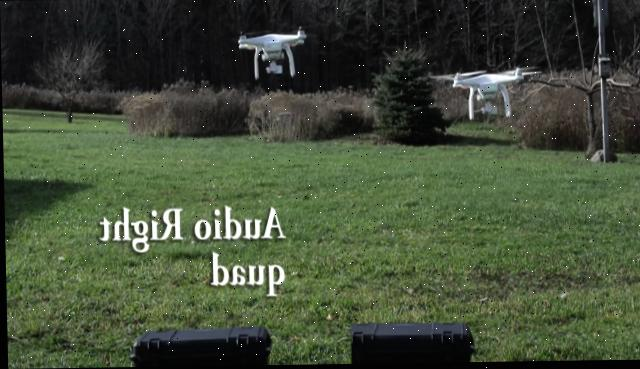drone: (425, 66, 545, 121), (236, 23, 310, 81)
